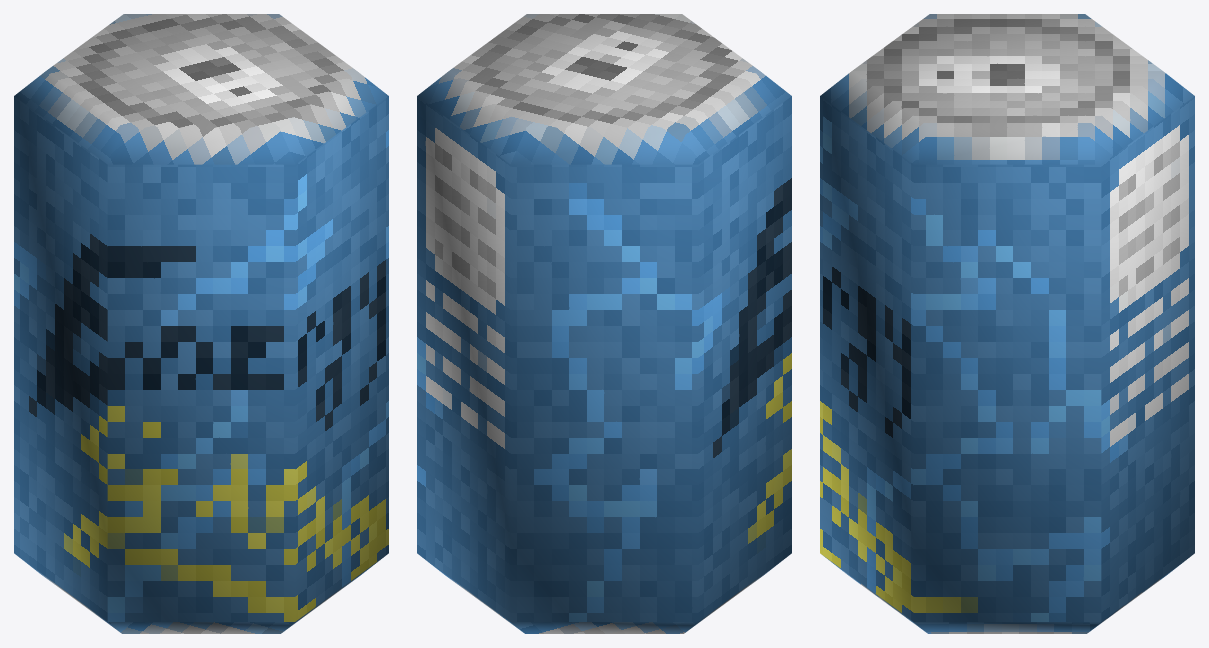
The model's file is energy_drink.fbx.
3 views of the same model, side by side, from view 1: azimuth 30°, elevation 25°; view 2: azimuth 150°, elevation 25°; view 3: azimuth 270°, elevation 25° (orthographic).
Parts seen in each view (by area): view 1: Cylinder; view 2: Cylinder; view 3: Cylinder.
Part boxes in pixels (x1=…): Cylinder: x1=14, y1=14, x2=388, y2=633; Cylinder: x1=417, y1=14, x2=791, y2=633; Cylinder: x1=820, y1=14, x2=1194, y2=633.
Size of the model in its own units: 36.1 by 61.96 by 41.69.
Materials: 1 (1 with a texture image).
